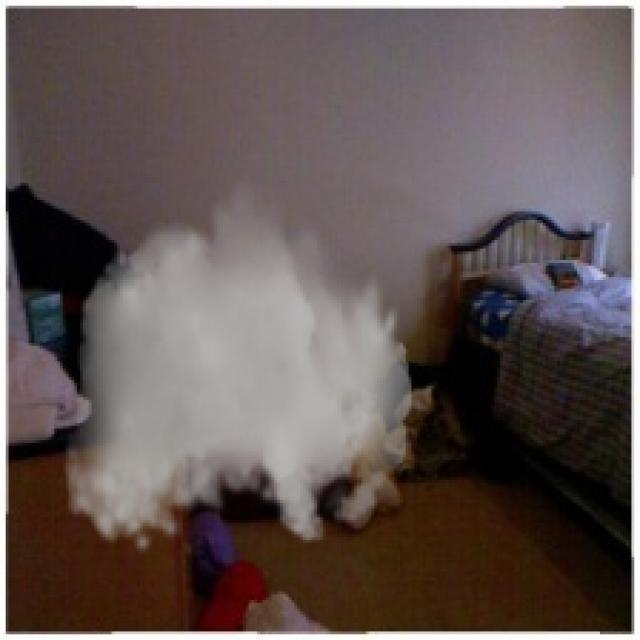Smoke: (62, 175, 412, 554)
